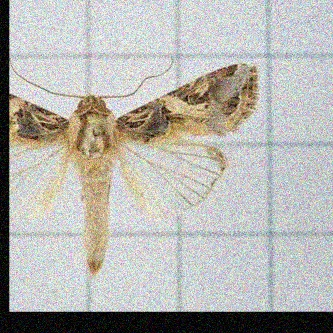Spodoptera litura: (9, 55, 260, 279)
